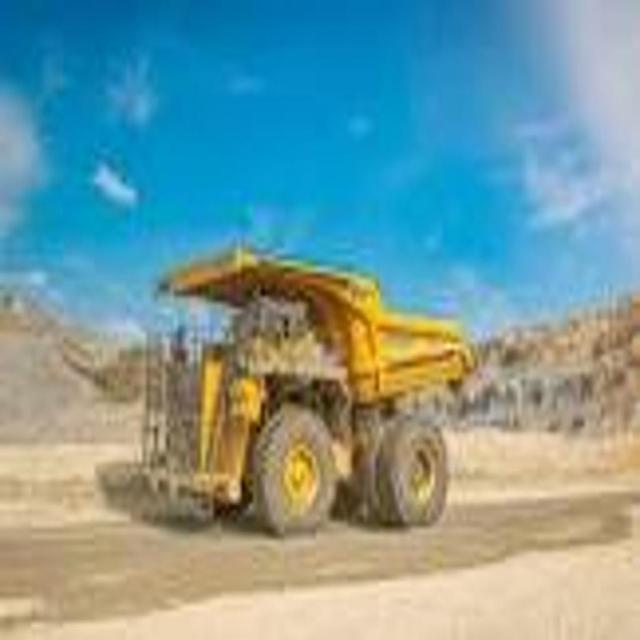dump_truck: (142, 244, 469, 545)
